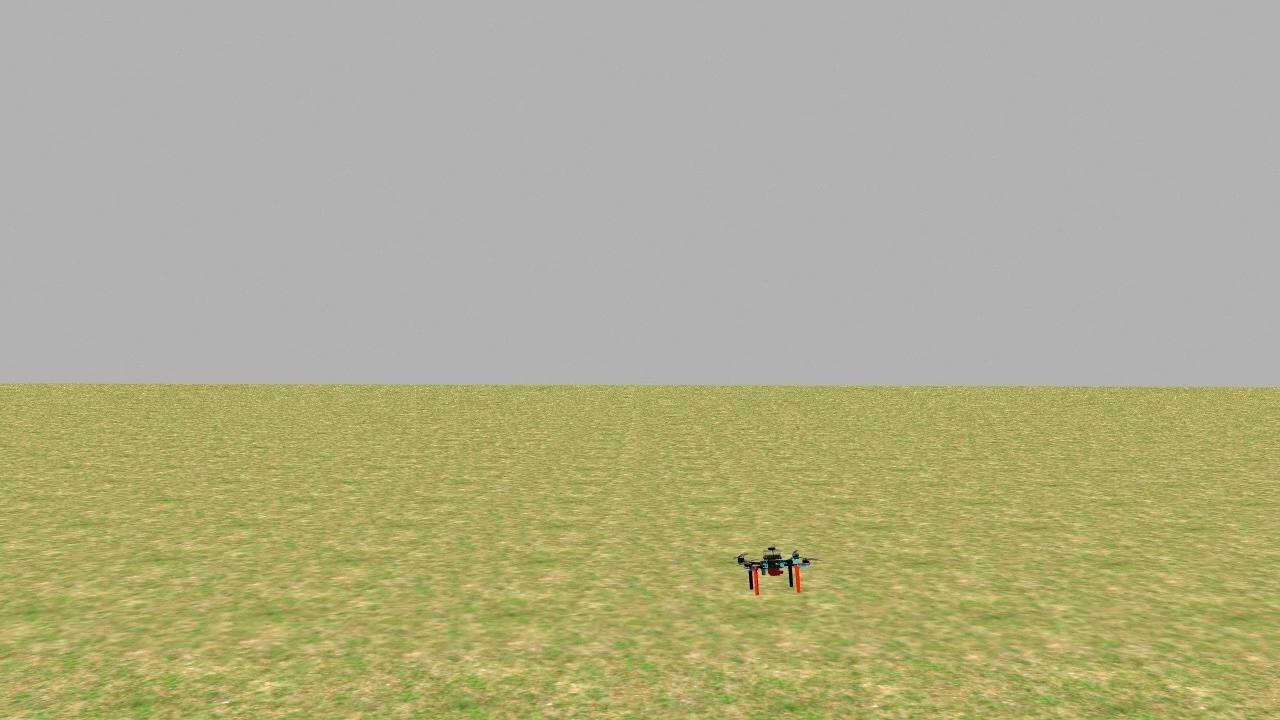UAV: (716, 523, 831, 599)
